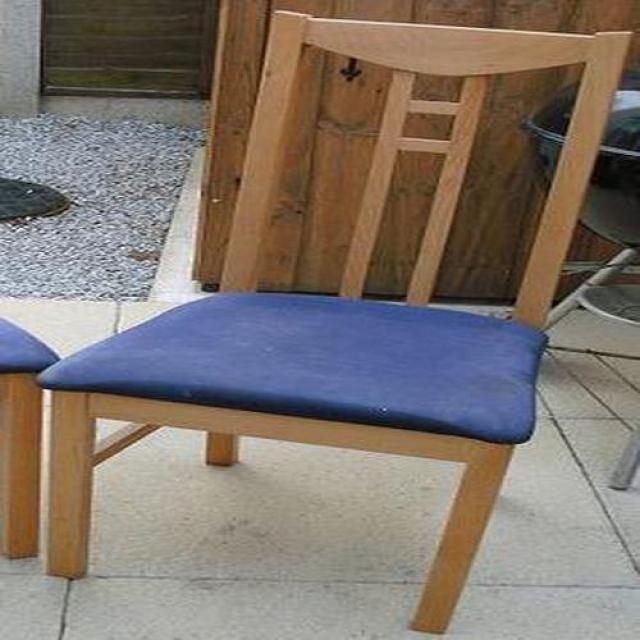chair: (35, 0, 631, 636)
